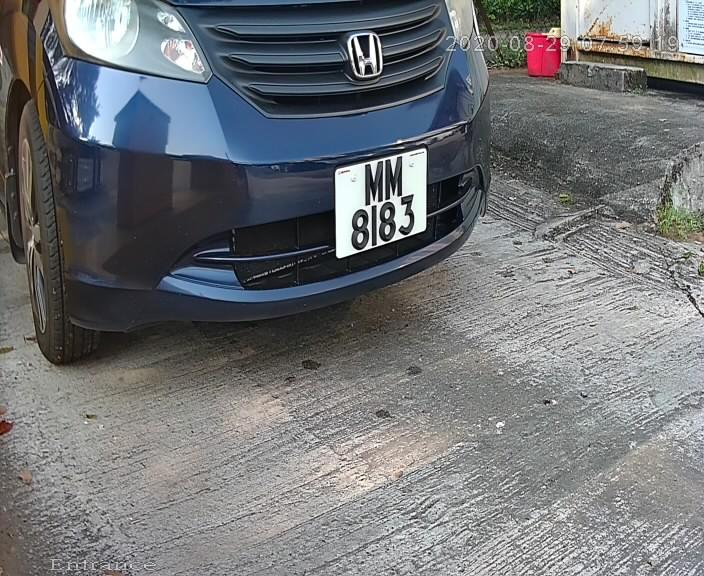Car: (19, 8, 541, 371)
License Plate: (324, 142, 434, 263)
